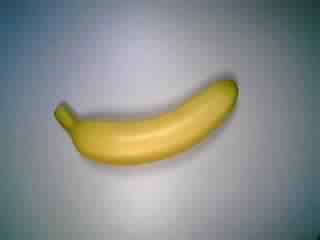banana: (49, 65, 250, 180)
